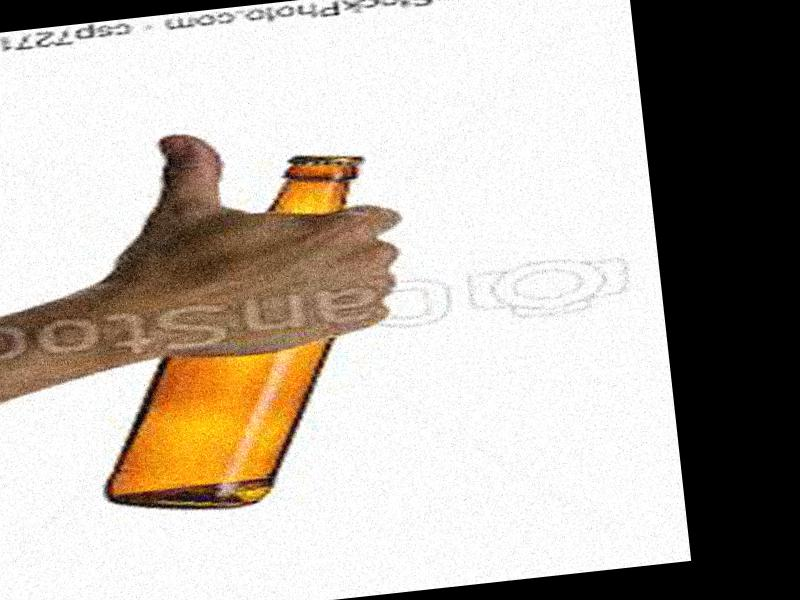Beer: (69, 152, 395, 521)
